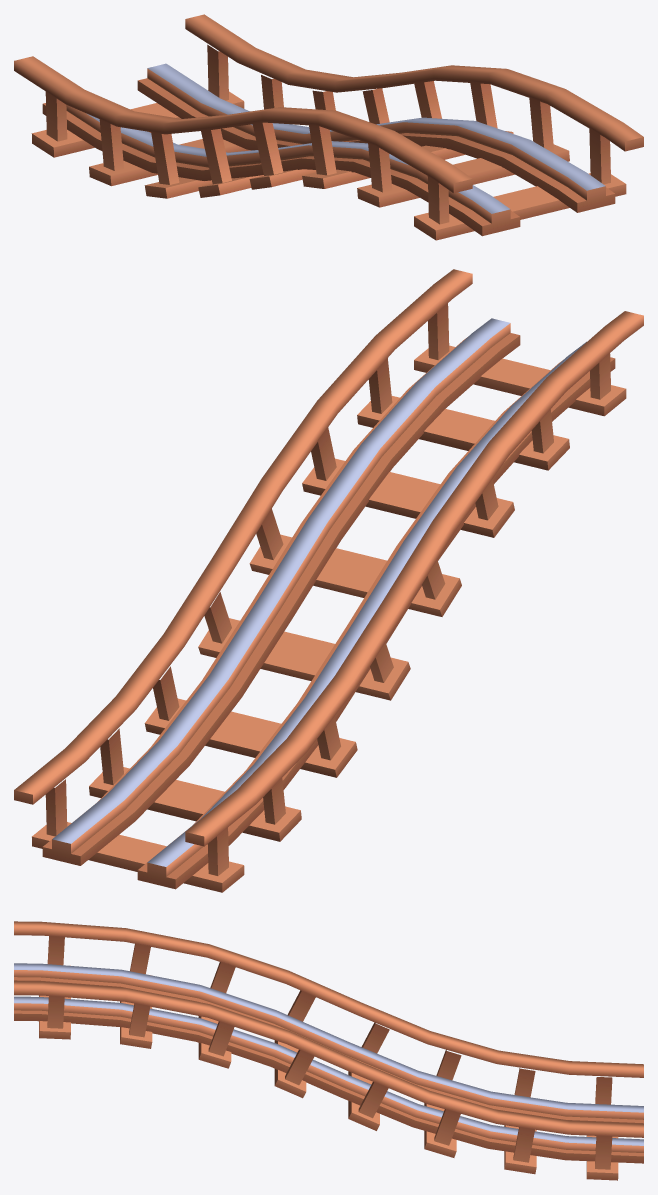
Rendered from kenney-coaster-coaster-wood-straight-hill-complete.glb.
3 renders of one model, top to bottom at view 1: azimuth 30°, elevation 25°; view 2: azimuth 150°, elevation 25°; view 3: azimuth 270°, elevation 25°, orthographic. The views are drawn at different scales.
Visible parts, largest first — view 1: coaster-wood-straight-hill-complete; view 2: coaster-wood-straight-hill-complete; view 3: coaster-wood-straight-hill-complete.
Boxes of the visible parts, left/top/right/bottom form: coaster-wood-straight-hill-complete: left=14, top=14, right=643, bottom=240; coaster-wood-straight-hill-complete: left=14, top=269, right=643, bottom=892; coaster-wood-straight-hill-complete: left=14, top=921, right=643, bottom=1180.
Size of the model in its own units: 1 by 1.35 by 4.
1 material, 1 textured.
